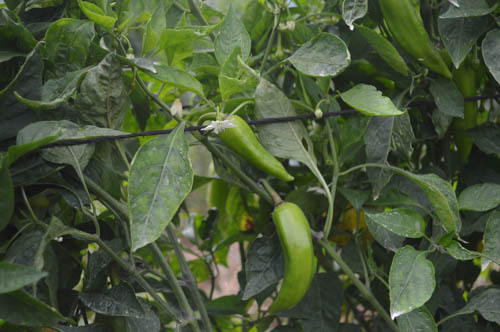ChiliPepper: (266, 205, 314, 319), (378, 4, 451, 74), (223, 117, 299, 182), (452, 67, 476, 163)
